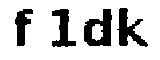1: (46, 7, 80, 53)
d: (82, 4, 115, 51)
f: (8, 4, 35, 54)
k: (117, 4, 151, 50)
